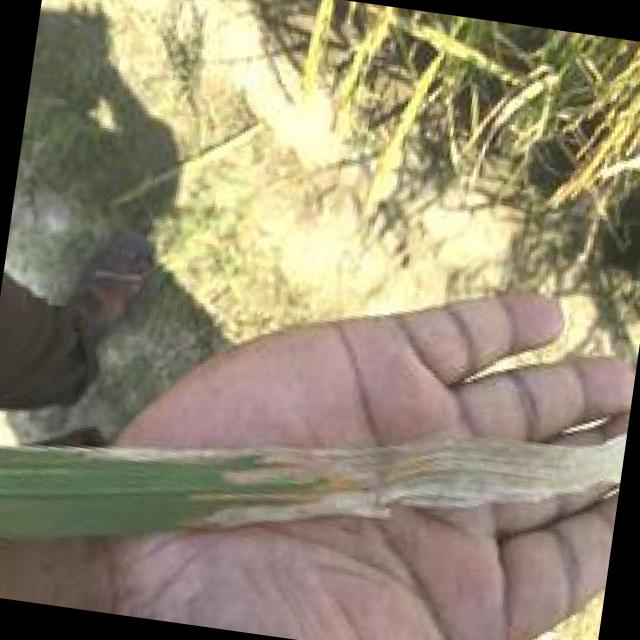Rice_Bacterial_Blight: (163, 403, 598, 528)
